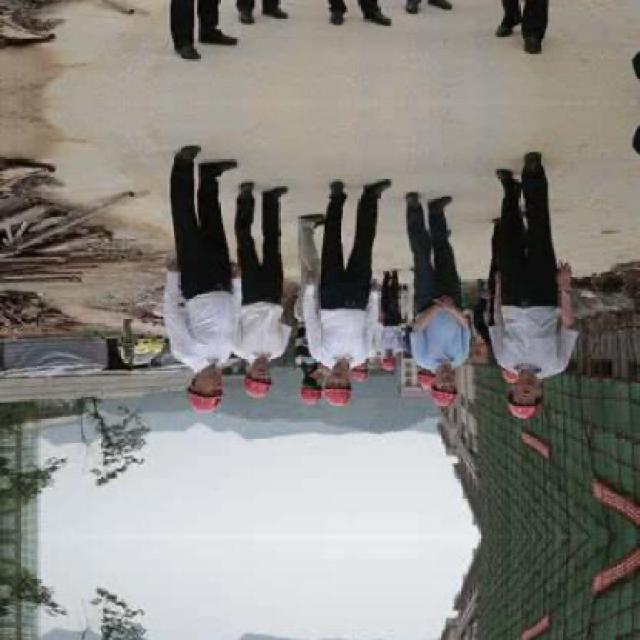con casco: (501, 354, 552, 428), (172, 354, 230, 416), (310, 350, 364, 412), (222, 361, 280, 416), (420, 367, 467, 407)
